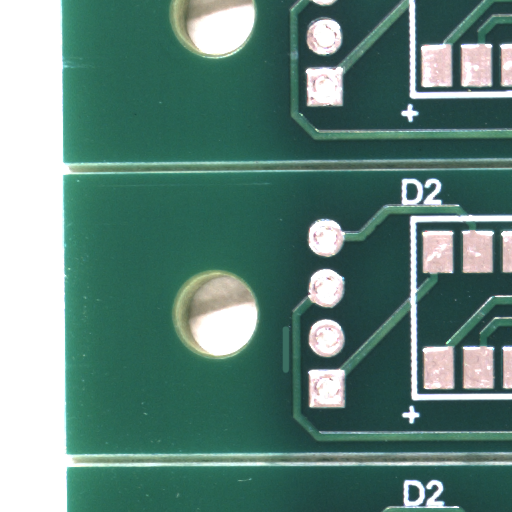Spurious_copper: (285, 349, 298, 400)
